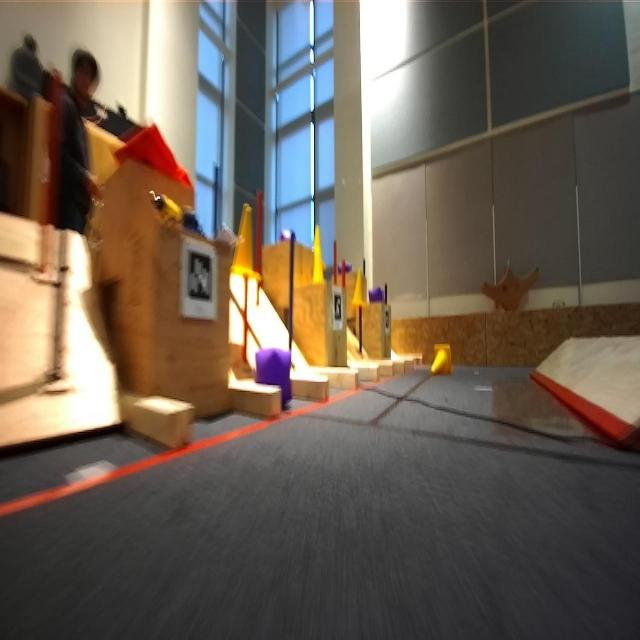frc_cone: (230, 207, 259, 279), (427, 346, 456, 380), (313, 236, 331, 281), (354, 266, 372, 308), (310, 223, 324, 269)
frc_cube: (256, 345, 292, 386), (370, 284, 388, 304), (337, 262, 353, 274)
